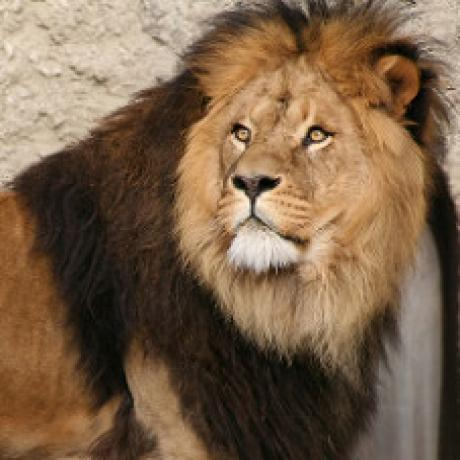Lion: (0, 0, 441, 460)
